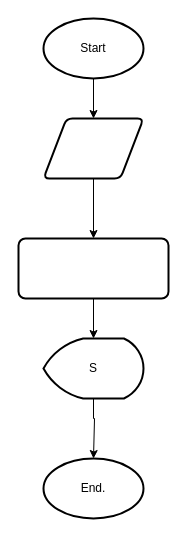
Some shapes in this 186 by 536 pixel diagram are drawn without their labels. Here are the shapes that lost their labels. From the top down, the box of each, then its label:
(42, 117, 144, 179): a, b
(17, 237, 169, 299): S = a + b
